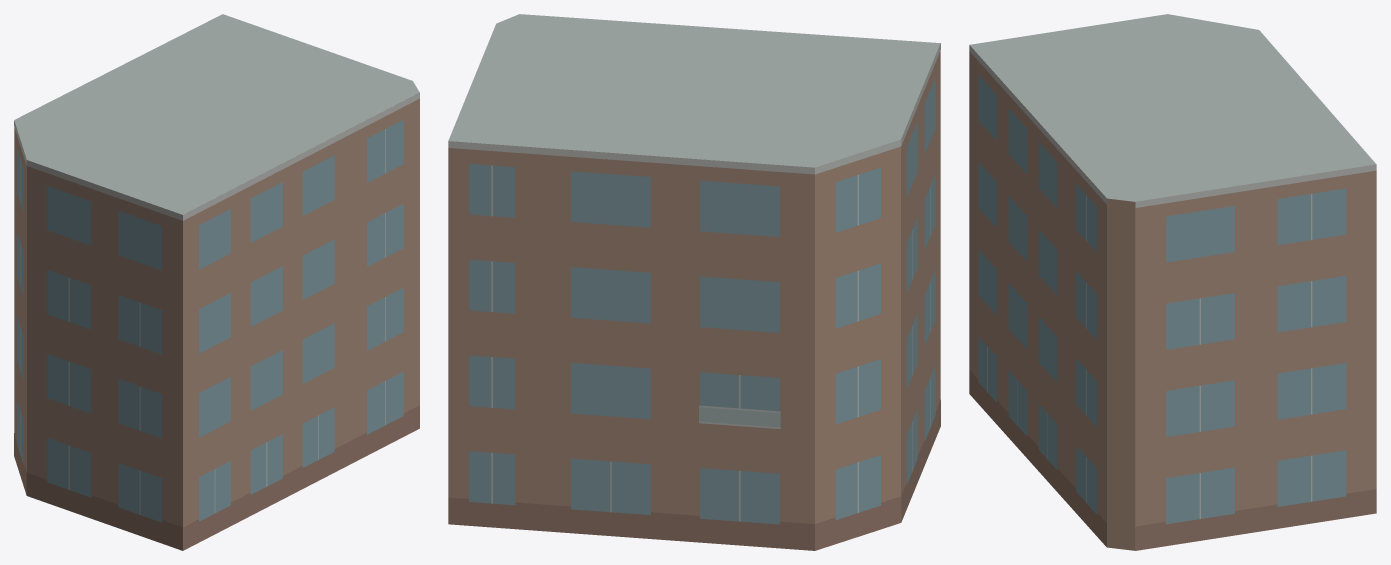
The model's file is survey-upis-33018379.glb.
The picture shows the model from 3 angles, left to right: view 1: azimuth 30°, elevation 25°; view 2: azimuth 150°, elevation 25°; view 3: azimuth 270°, elevation 25°; orthographic projection. The views are drawn at different scales.
Parts seen in each view (by area): view 1: survey-upis-33018379.tmp; view 2: survey-upis-33018379.tmp; view 3: survey-upis-33018379.tmp.
Part boxes in pixels (left/top/right/bottom): survey-upis-33018379.tmp: left=14, top=14, right=419, bottom=550; survey-upis-33018379.tmp: left=448, top=14, right=940, bottom=550; survey-upis-33018379.tmp: left=969, top=14, right=1376, bottom=550.
Bounding box in the file's own units: 15.85 × 13.72 × 14.52.
